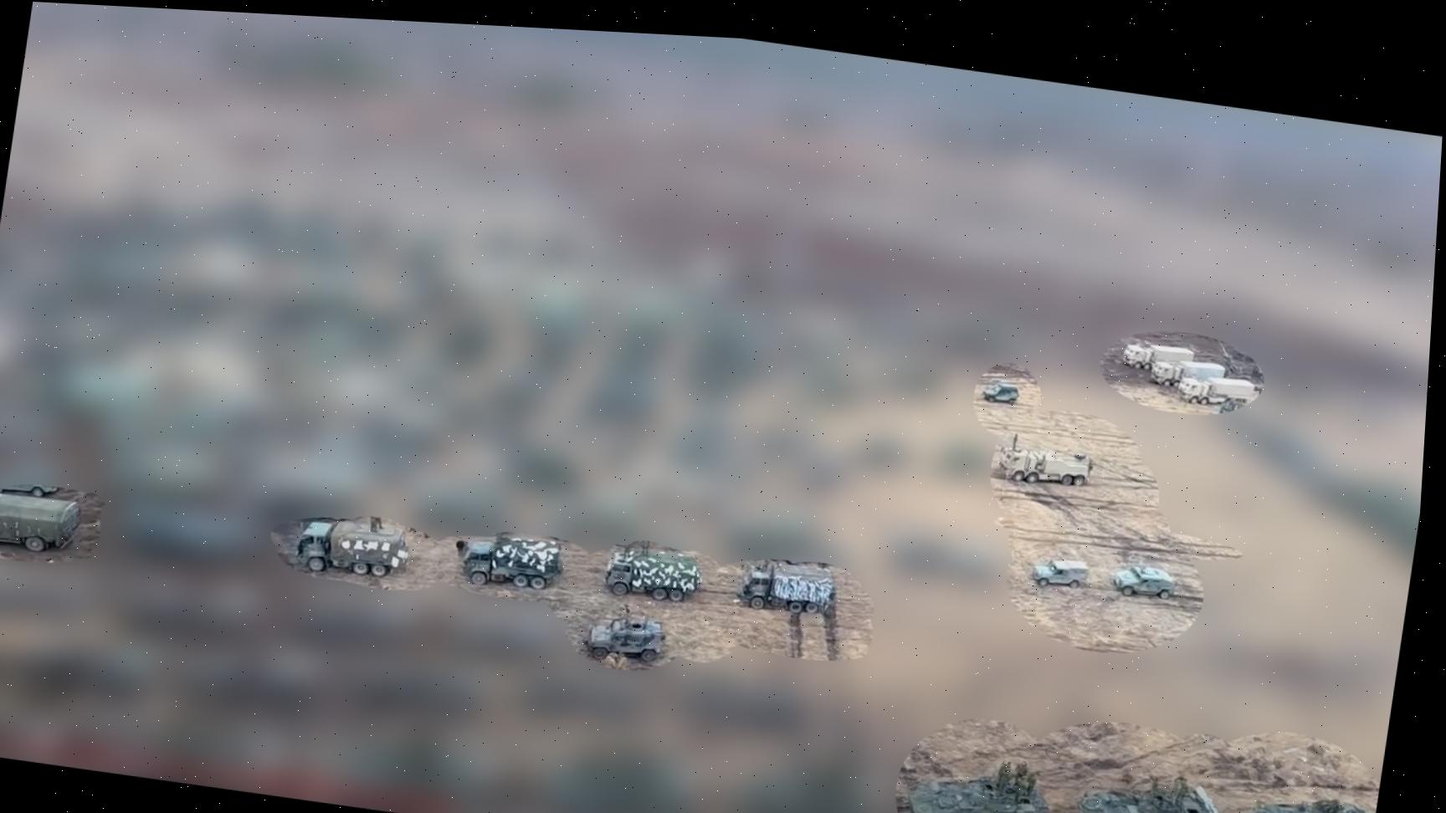armored_car: (900, 757, 1060, 813), (1075, 772, 1226, 813), (578, 610, 668, 669), (1241, 789, 1377, 813), (1110, 562, 1177, 605), (1029, 553, 1090, 595), (980, 379, 1022, 407)
truck: (292, 508, 412, 587), (454, 527, 570, 597), (0, 484, 87, 563), (600, 544, 704, 608), (732, 559, 836, 622), (994, 441, 1095, 492), (1174, 371, 1257, 414)
